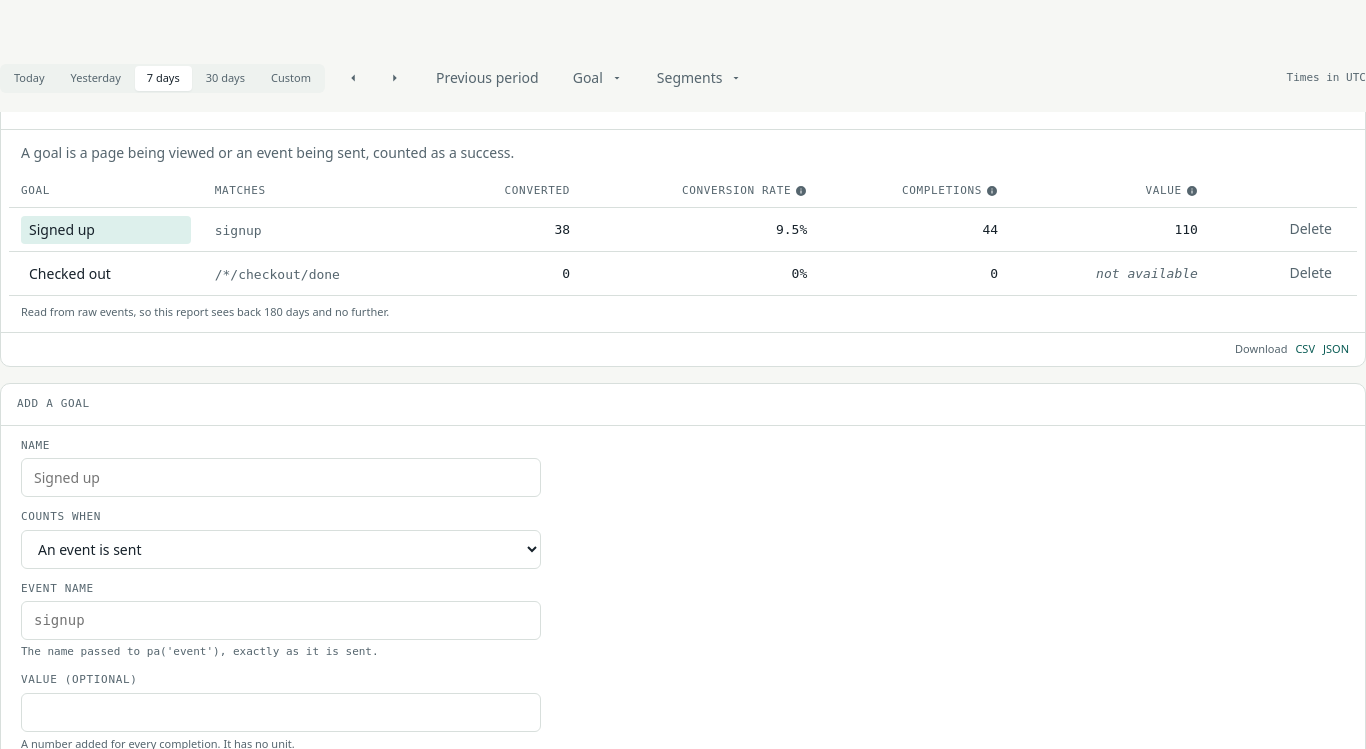
it: Goals, adding one › refuses an empty name and a path with no slash before asking the server
Select "A page is viewed" in the dropdown labelled "Counts when" at (281, 549), box left=21, top=530, right=541, bottom=569
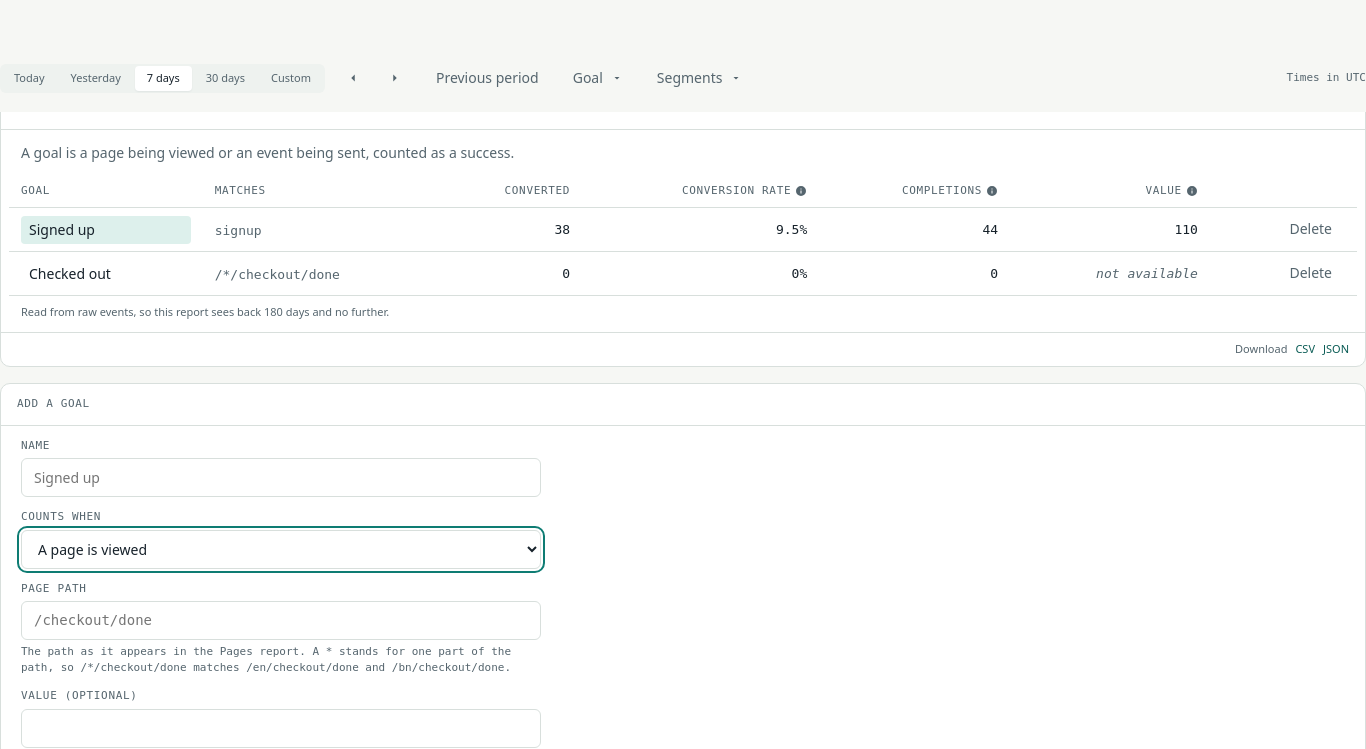
Type "checkout/done" into the field labelled "Page path" at (281, 621), box left=21, top=601, right=541, bottom=640
(page scrolled)
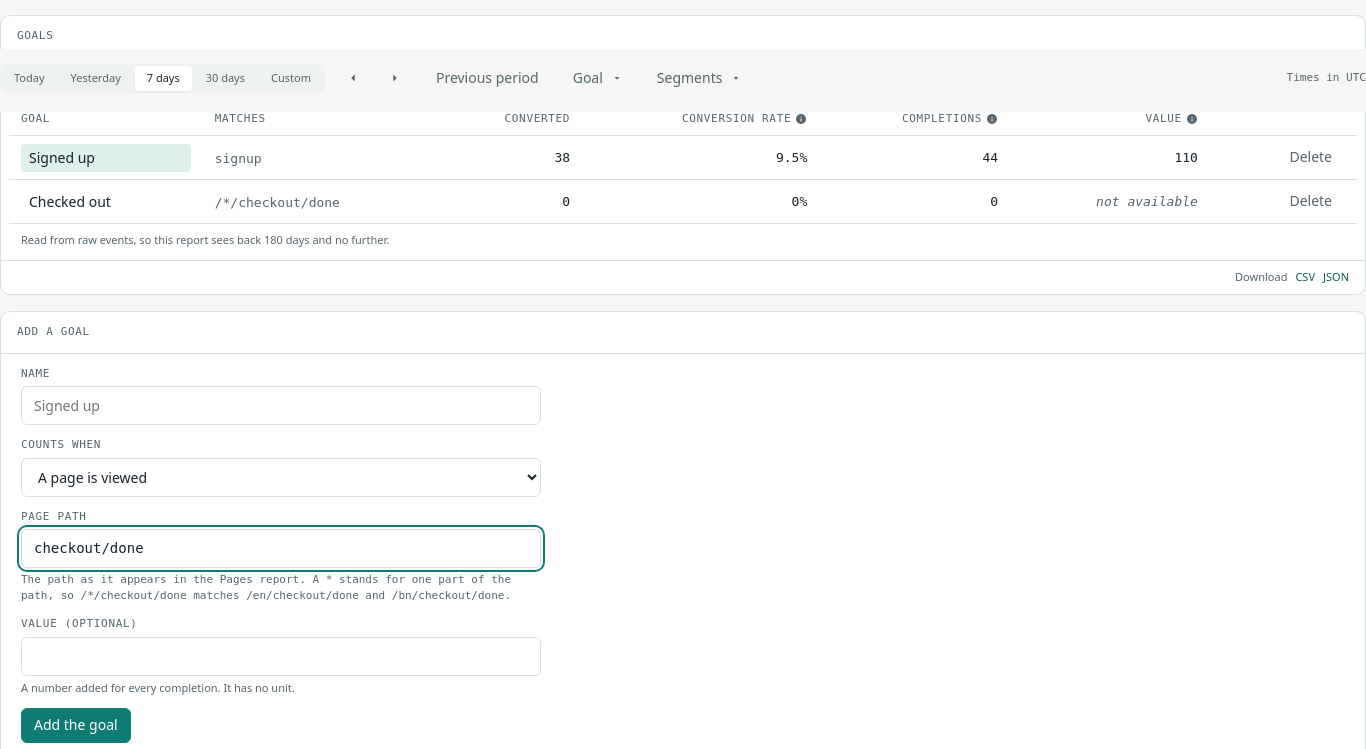
Click the button "Add the goal" at (76, 725), box left=21, top=708, right=131, bottom=742
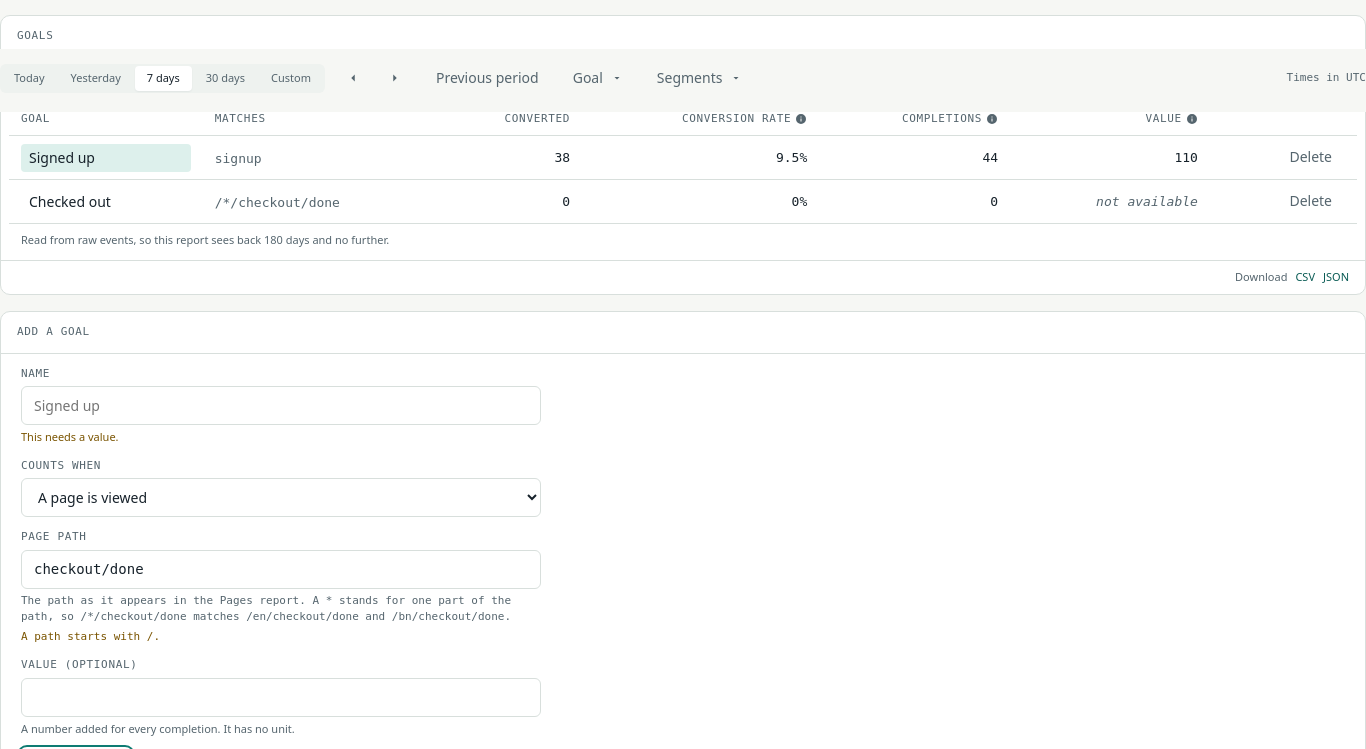
Check: the text "This needs a value." is shown, box left=21, top=429, right=119, bottom=444
Check: the text "A path starts with /." is shown, box left=21, top=630, right=160, bottom=643
